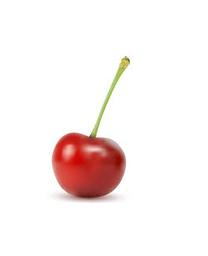cherry: (50, 132, 127, 199)
